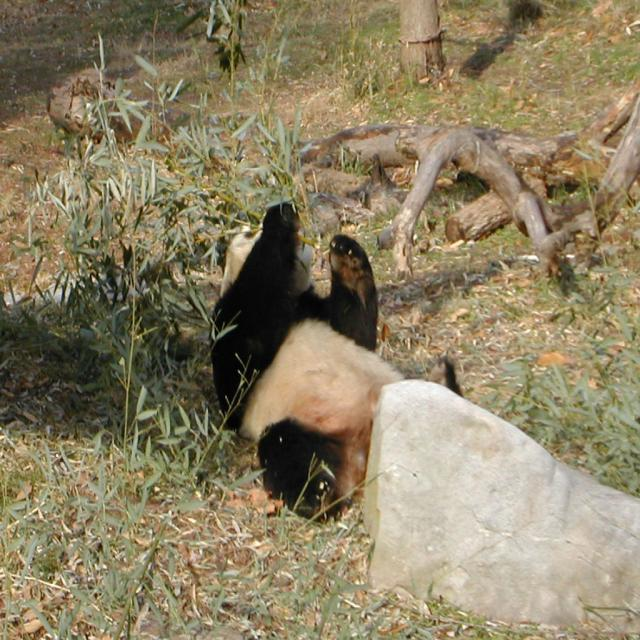panda: (205, 200, 460, 522)
